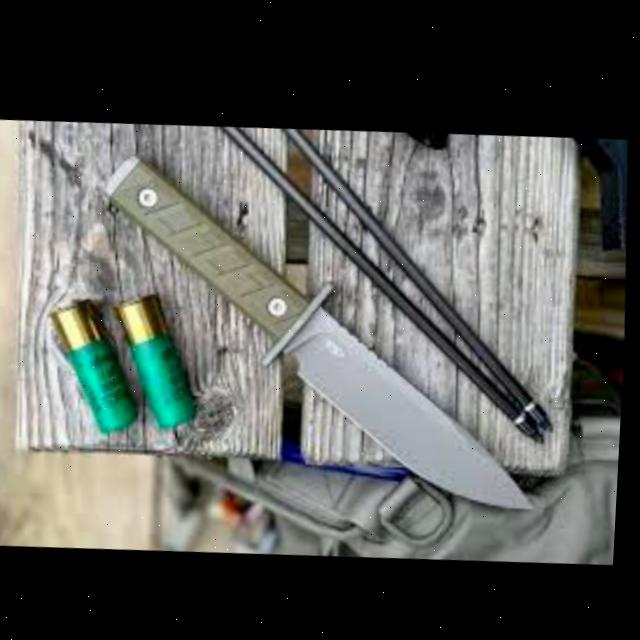Knife: (92, 133, 554, 515)
